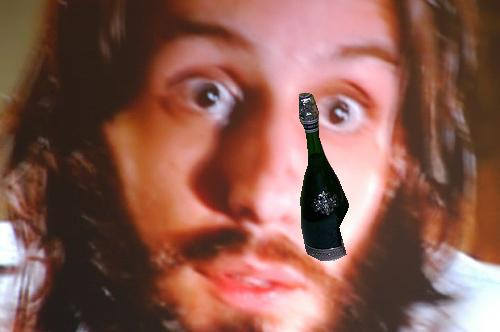tampered: (300, 94, 349, 261)
